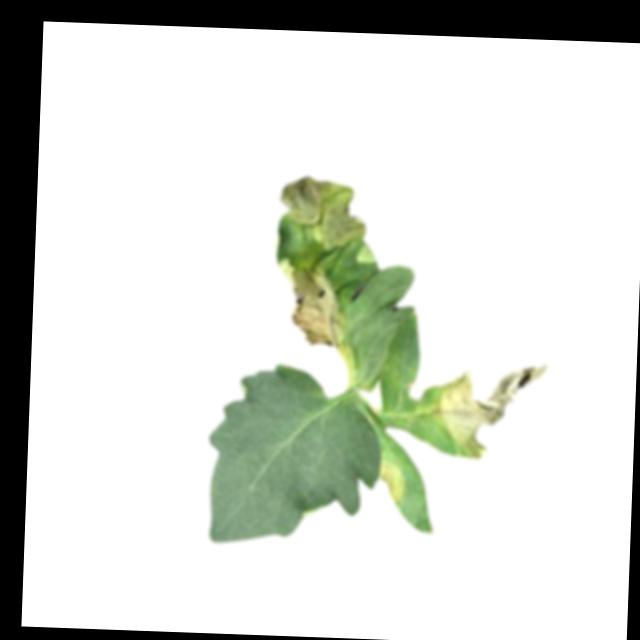Late_blight: (427, 355, 550, 462), (276, 173, 379, 262), (271, 253, 353, 347), (376, 462, 406, 509)
